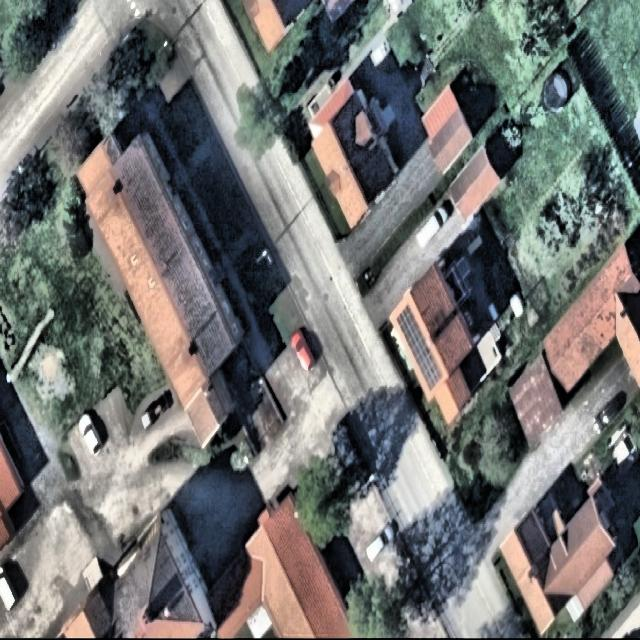roof_pv: (393, 298, 423, 356), (413, 351, 445, 396)
